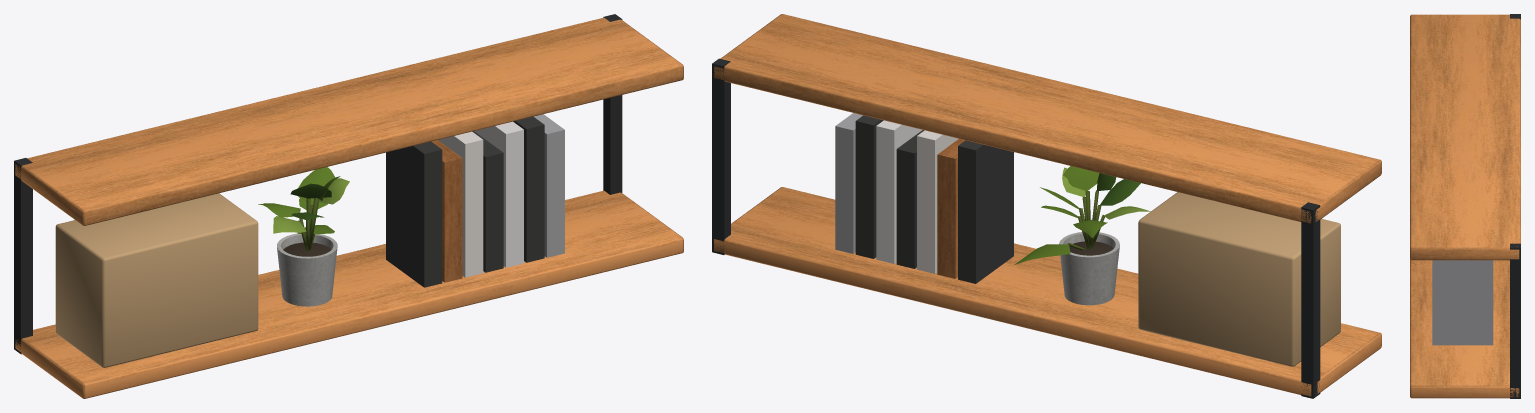
Rendered from storage.wall-shelf-1000x200x300.glb.
The picture shows the model from 3 angles, left to right: view 1: azimuth 30°, elevation 25°; view 2: azimuth 150°, elevation 25°; view 3: azimuth 270°, elevation 25°; orthographic projection. The views are drawn at different scales.
Parts seen in each view (by area): view 1: storage.wall-shelf-1000x200x300.001; view 2: storage.wall-shelf-1000x200x300.001; view 3: storage.wall-shelf-1000x200x300.001.
Boxes of the visible parts, <box> form: storage.wall-shelf-1000x200x300.001: <box>14,14,683,398</box>; storage.wall-shelf-1000x200x300.001: <box>712,14,1381,398</box>; storage.wall-shelf-1000x200x300.001: <box>1410,14,1520,398</box>.
Size of the model in its own units: 1 by 0.3 by 0.2.
Materials: 14 (3 with a texture image).
